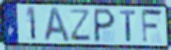1: (26, 5, 37, 43)
A: (42, 6, 72, 43)
F: (140, 8, 165, 45)
P: (93, 7, 117, 44)
T: (119, 9, 138, 43)
Z: (70, 8, 92, 42)
